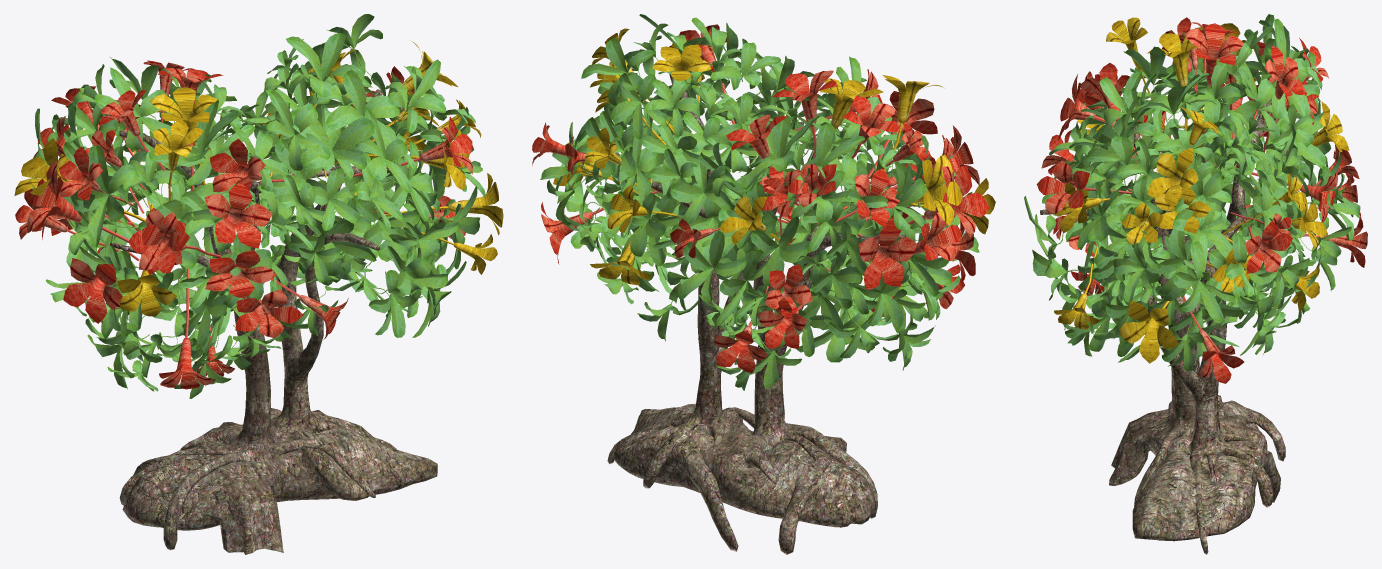
3 views of the same model, side by side, from view 1: azimuth 30°, elevation 25°; view 2: azimuth 150°, elevation 25°; view 3: azimuth 270°, elevation 25° (orthographic). The views are drawn at different scales.
Visible parts, largest first — view 1: Leaves, TrunkandBranches, RedFlowers, YellowFlowers; view 2: Leaves, TrunkandBranches, RedFlowers, YellowFlowers; view 3: Leaves, TrunkandBranches, RedFlowers, YellowFlowers.
Boxes of the visible parts, x1=… form: Leaves: x1=31, y1=14, x2=485, y2=398; TrunkandBranches: x1=110, y1=89, x2=437, y2=554; RedFlowers: x1=15, y1=60, x2=472, y2=389; YellowFlowers: x1=14, y1=41, x2=503, y2=316; Leaves: x1=540, y1=14, x2=979, y2=390; TrunkandBranches: x1=607, y1=64, x2=905, y2=554; RedFlowers: x1=532, y1=24, x2=989, y2=373; YellowFlowers: x1=553, y1=28, x2=995, y2=285; Leaves: x1=1024, y1=14, x2=1360, y2=371; TrunkandBranches: x1=1040, y1=98, x2=1285, y2=554; RedFlowers: x1=1036, y1=17, x2=1367, y2=383; YellowFlowers: x1=1054, y1=17, x2=1349, y2=363.
Size of the model in its own units: 31.61 by 33 by 22.4.
